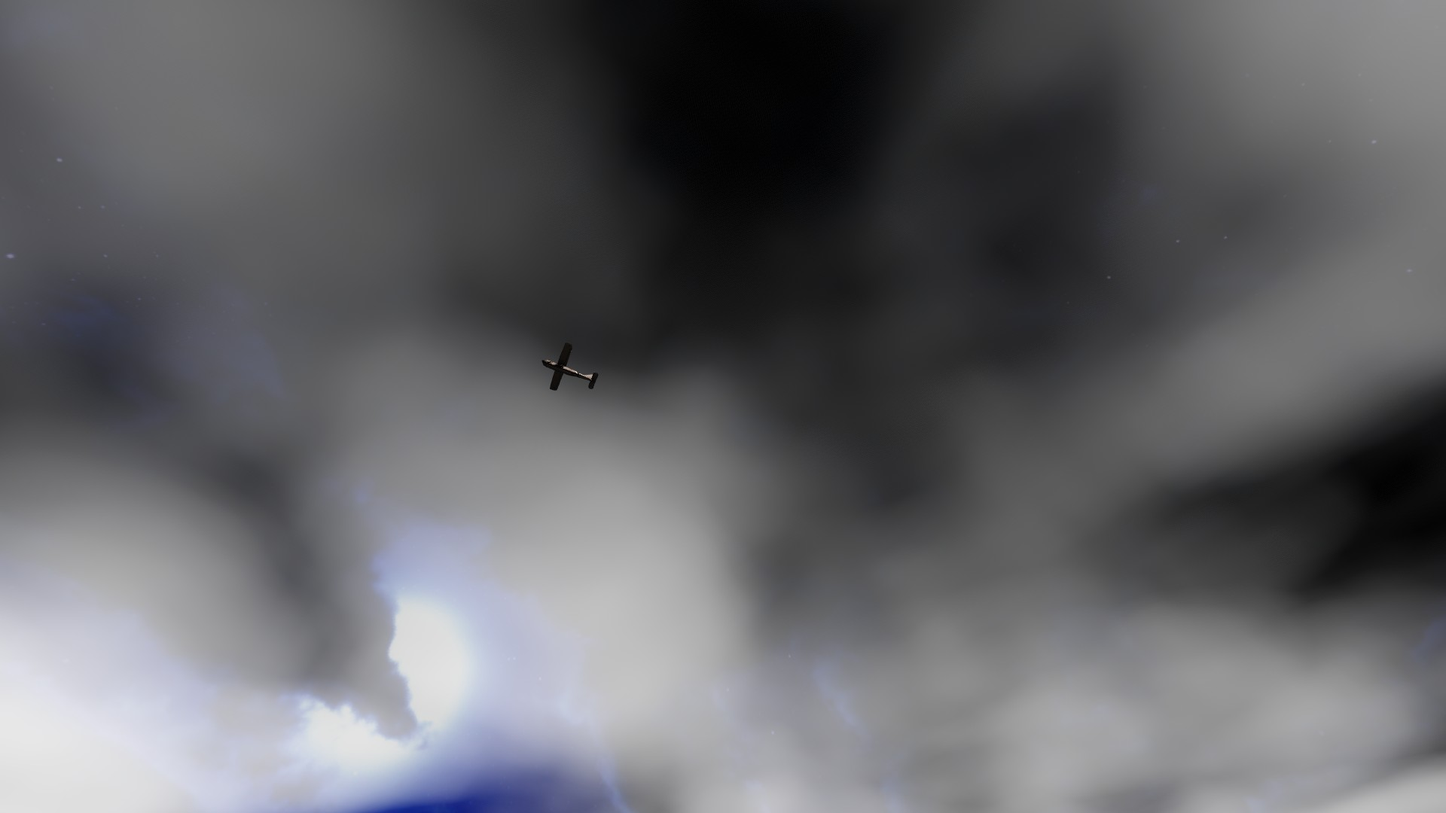drone_other: (541, 342, 598, 390)
